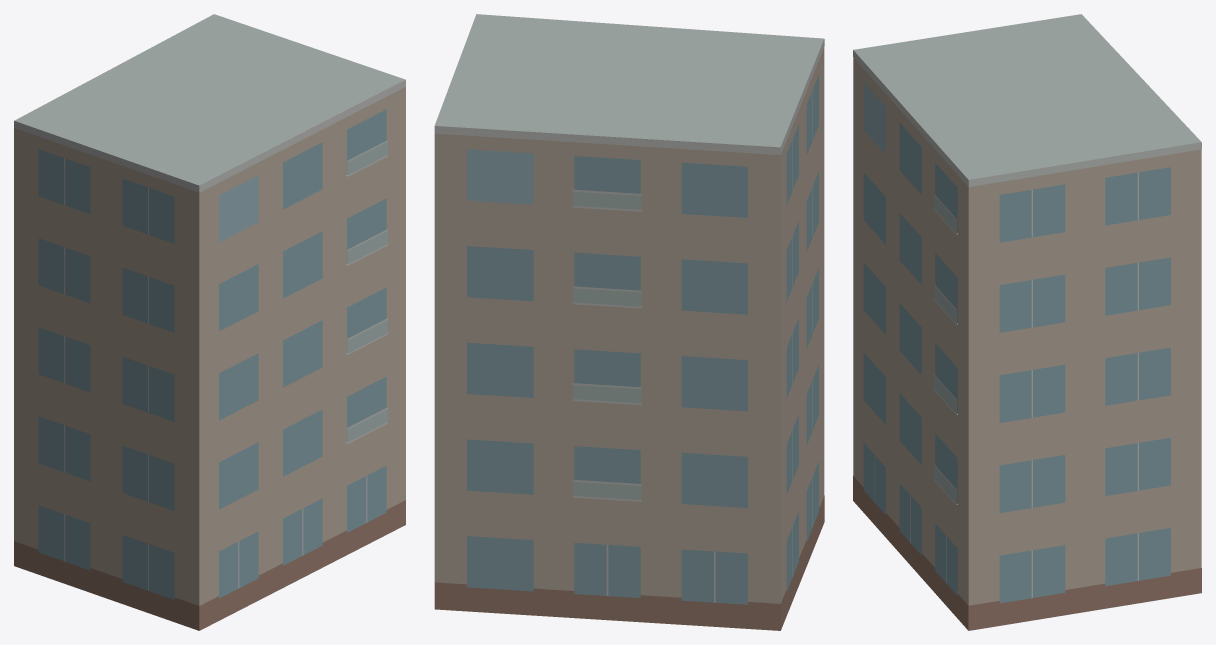
File: residential-e1a74f7f-da63-48de-8855-9b35d7d32582.glb
3 renders of one model, left to right at view 1: azimuth 30°, elevation 25°; view 2: azimuth 150°, elevation 25°; view 3: azimuth 270°, elevation 25°, orthographic. The views are drawn at different scales.
Parts seen in each view (by area): view 1: residential-e1a74f7f-da63-48de-8855-9b35d7d32582.tmp; view 2: residential-e1a74f7f-da63-48de-8855-9b35d7d32582.tmp; view 3: residential-e1a74f7f-da63-48de-8855-9b35d7d32582.tmp.
Boxes of the visible parts, x1=… form: residential-e1a74f7f-da63-48de-8855-9b35d7d32582.tmp: x1=14, y1=14, x2=405, y2=630; residential-e1a74f7f-da63-48de-8855-9b35d7d32582.tmp: x1=434, y1=14, x2=824, y2=630; residential-e1a74f7f-da63-48de-8855-9b35d7d32582.tmp: x1=853, y1=14, x2=1201, y2=630.
Bounding box in the file's own units: 12.05 × 15.25 × 10.7.
